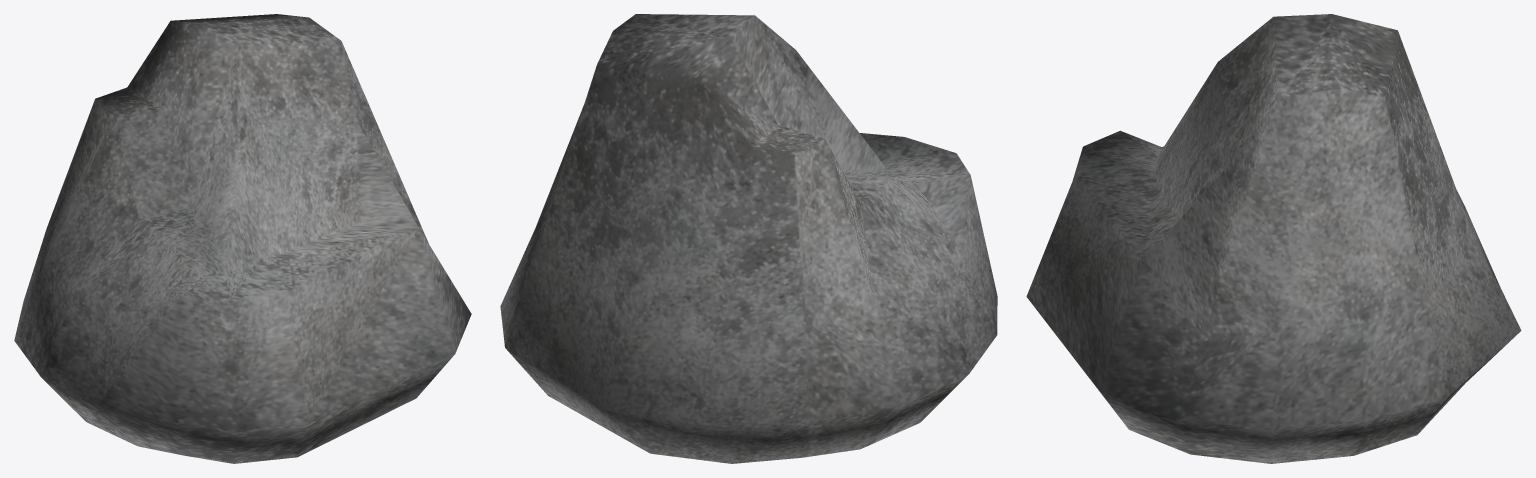
Rendered from rock.fbx.
3 views of the same model, side by side, from view 1: azimuth 30°, elevation 25°; view 2: azimuth 150°, elevation 25°; view 3: azimuth 270°, elevation 25° (orthographic). The views are drawn at different scales.
Visible parts, largest first — view 1: pCube1; view 2: pCube1; view 3: pCube1.
Part boxes in pixels (bbox=[...]): pCube1: bbox=[14, 14, 471, 463]; pCube1: bbox=[500, 14, 997, 463]; pCube1: bbox=[1026, 14, 1521, 463].
Bounding box in the file's own units: 6.23 × 4.99 × 6.17.
